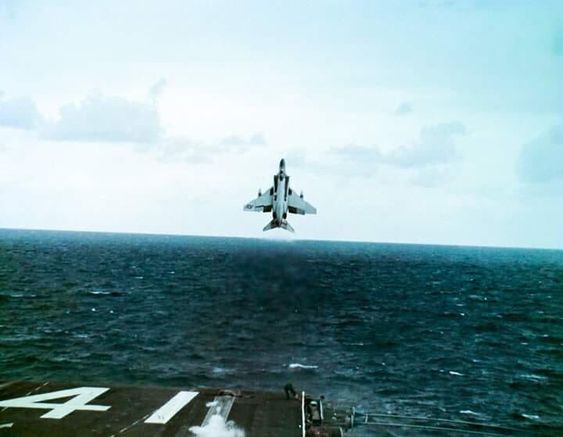F4: (242, 158, 317, 233)
